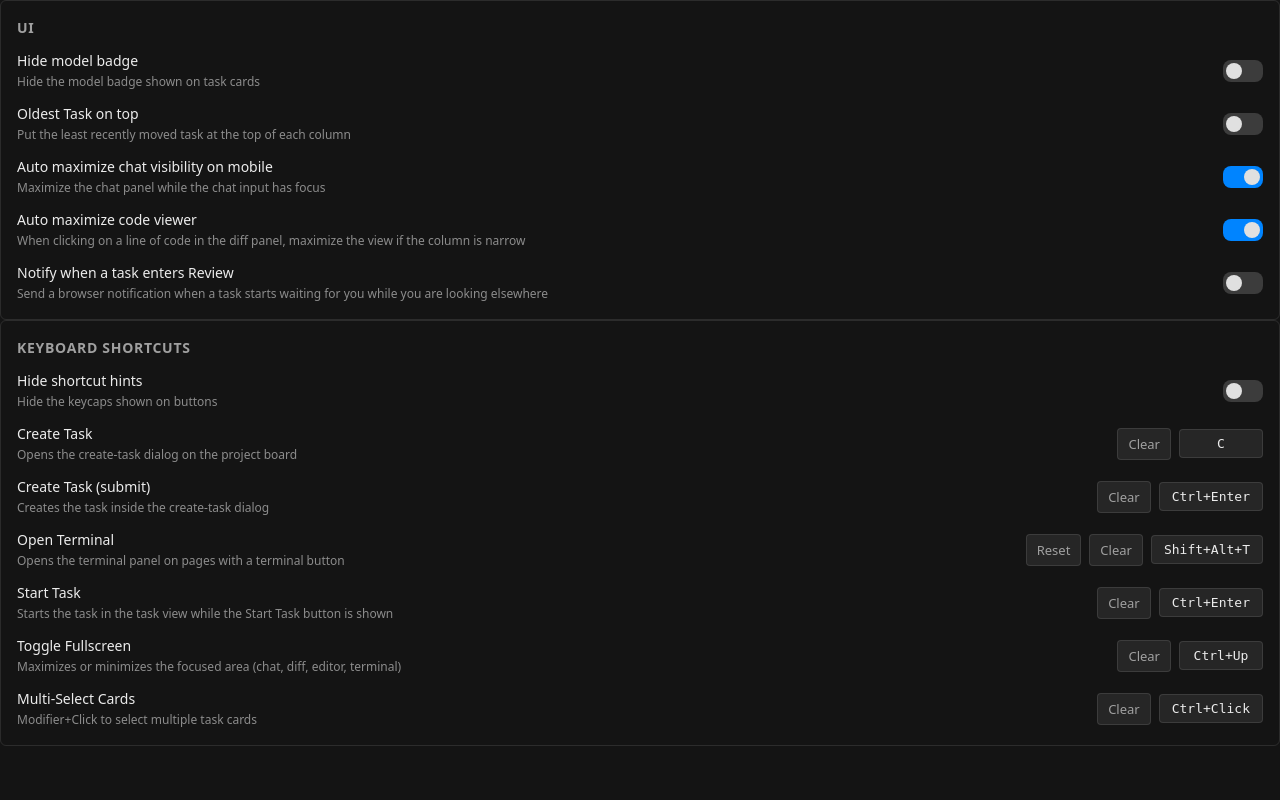
it: PreferencesTab open-terminal row › resets to the default binding
This screenshot has width=1280, height=800.
Click the button with aria-label "Reset to default" at [1054, 550], box top-left (1026, 534), bottom-right (1081, 566)
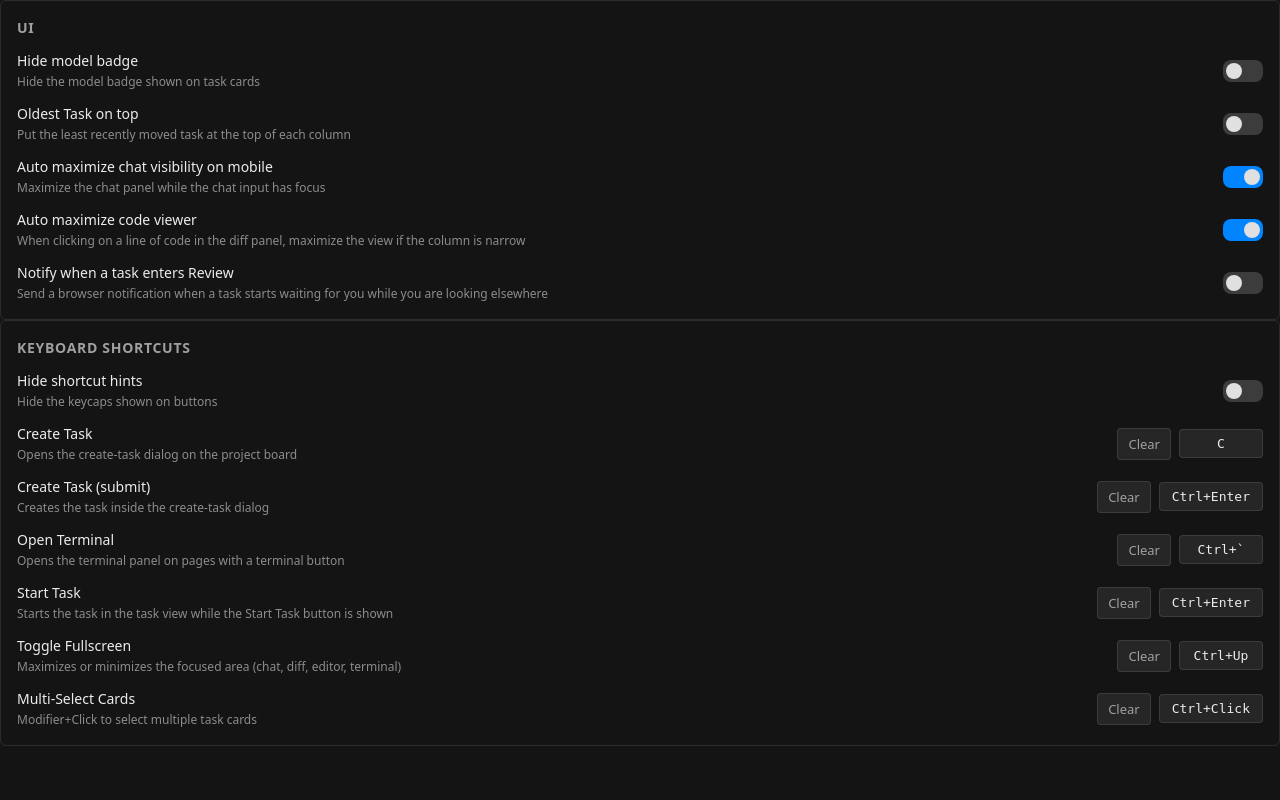
Now the button with aria-label "open terminal shortcut" reads "Ctrl+`", box top-left (1179, 535), bottom-right (1263, 564)
